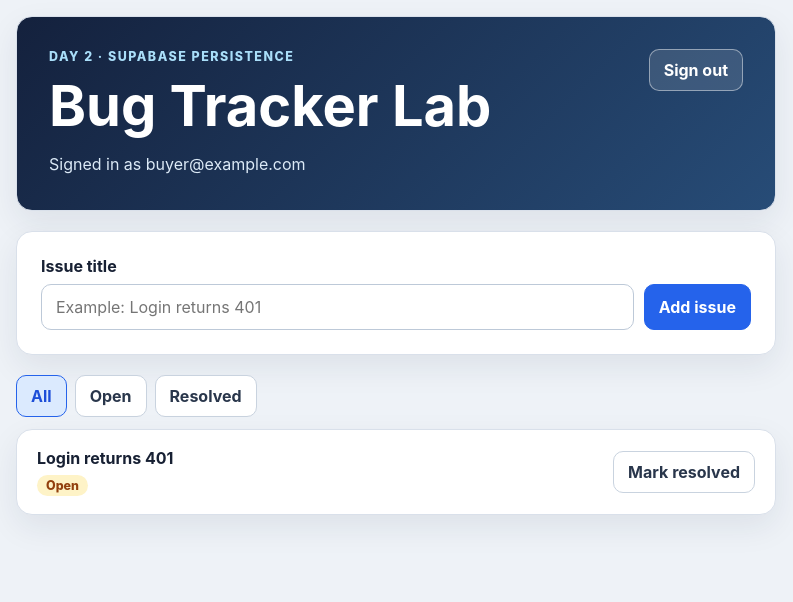
Test: BugTrackerWorkspace › keeps the previous issue state when a database update fails
The width and height of the screenshot is (793, 602).
Click the button with aria-label "mark login returns 401 as resolved": (684, 472) [613,451,755,493]
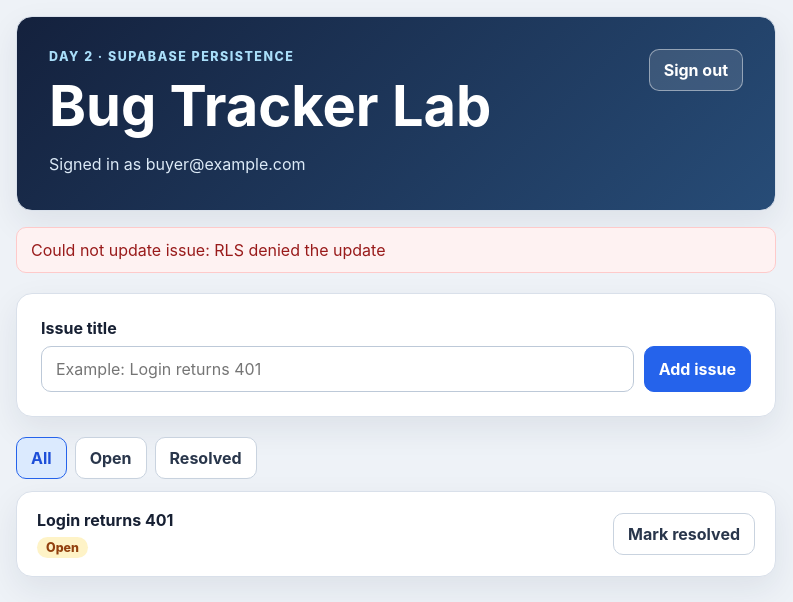
Expected: the button with aria-label "mark login returns 401 as resolved" is shown, [613,513,755,555]
Expected: the message shows "RLS denied", [31,240,386,260]
